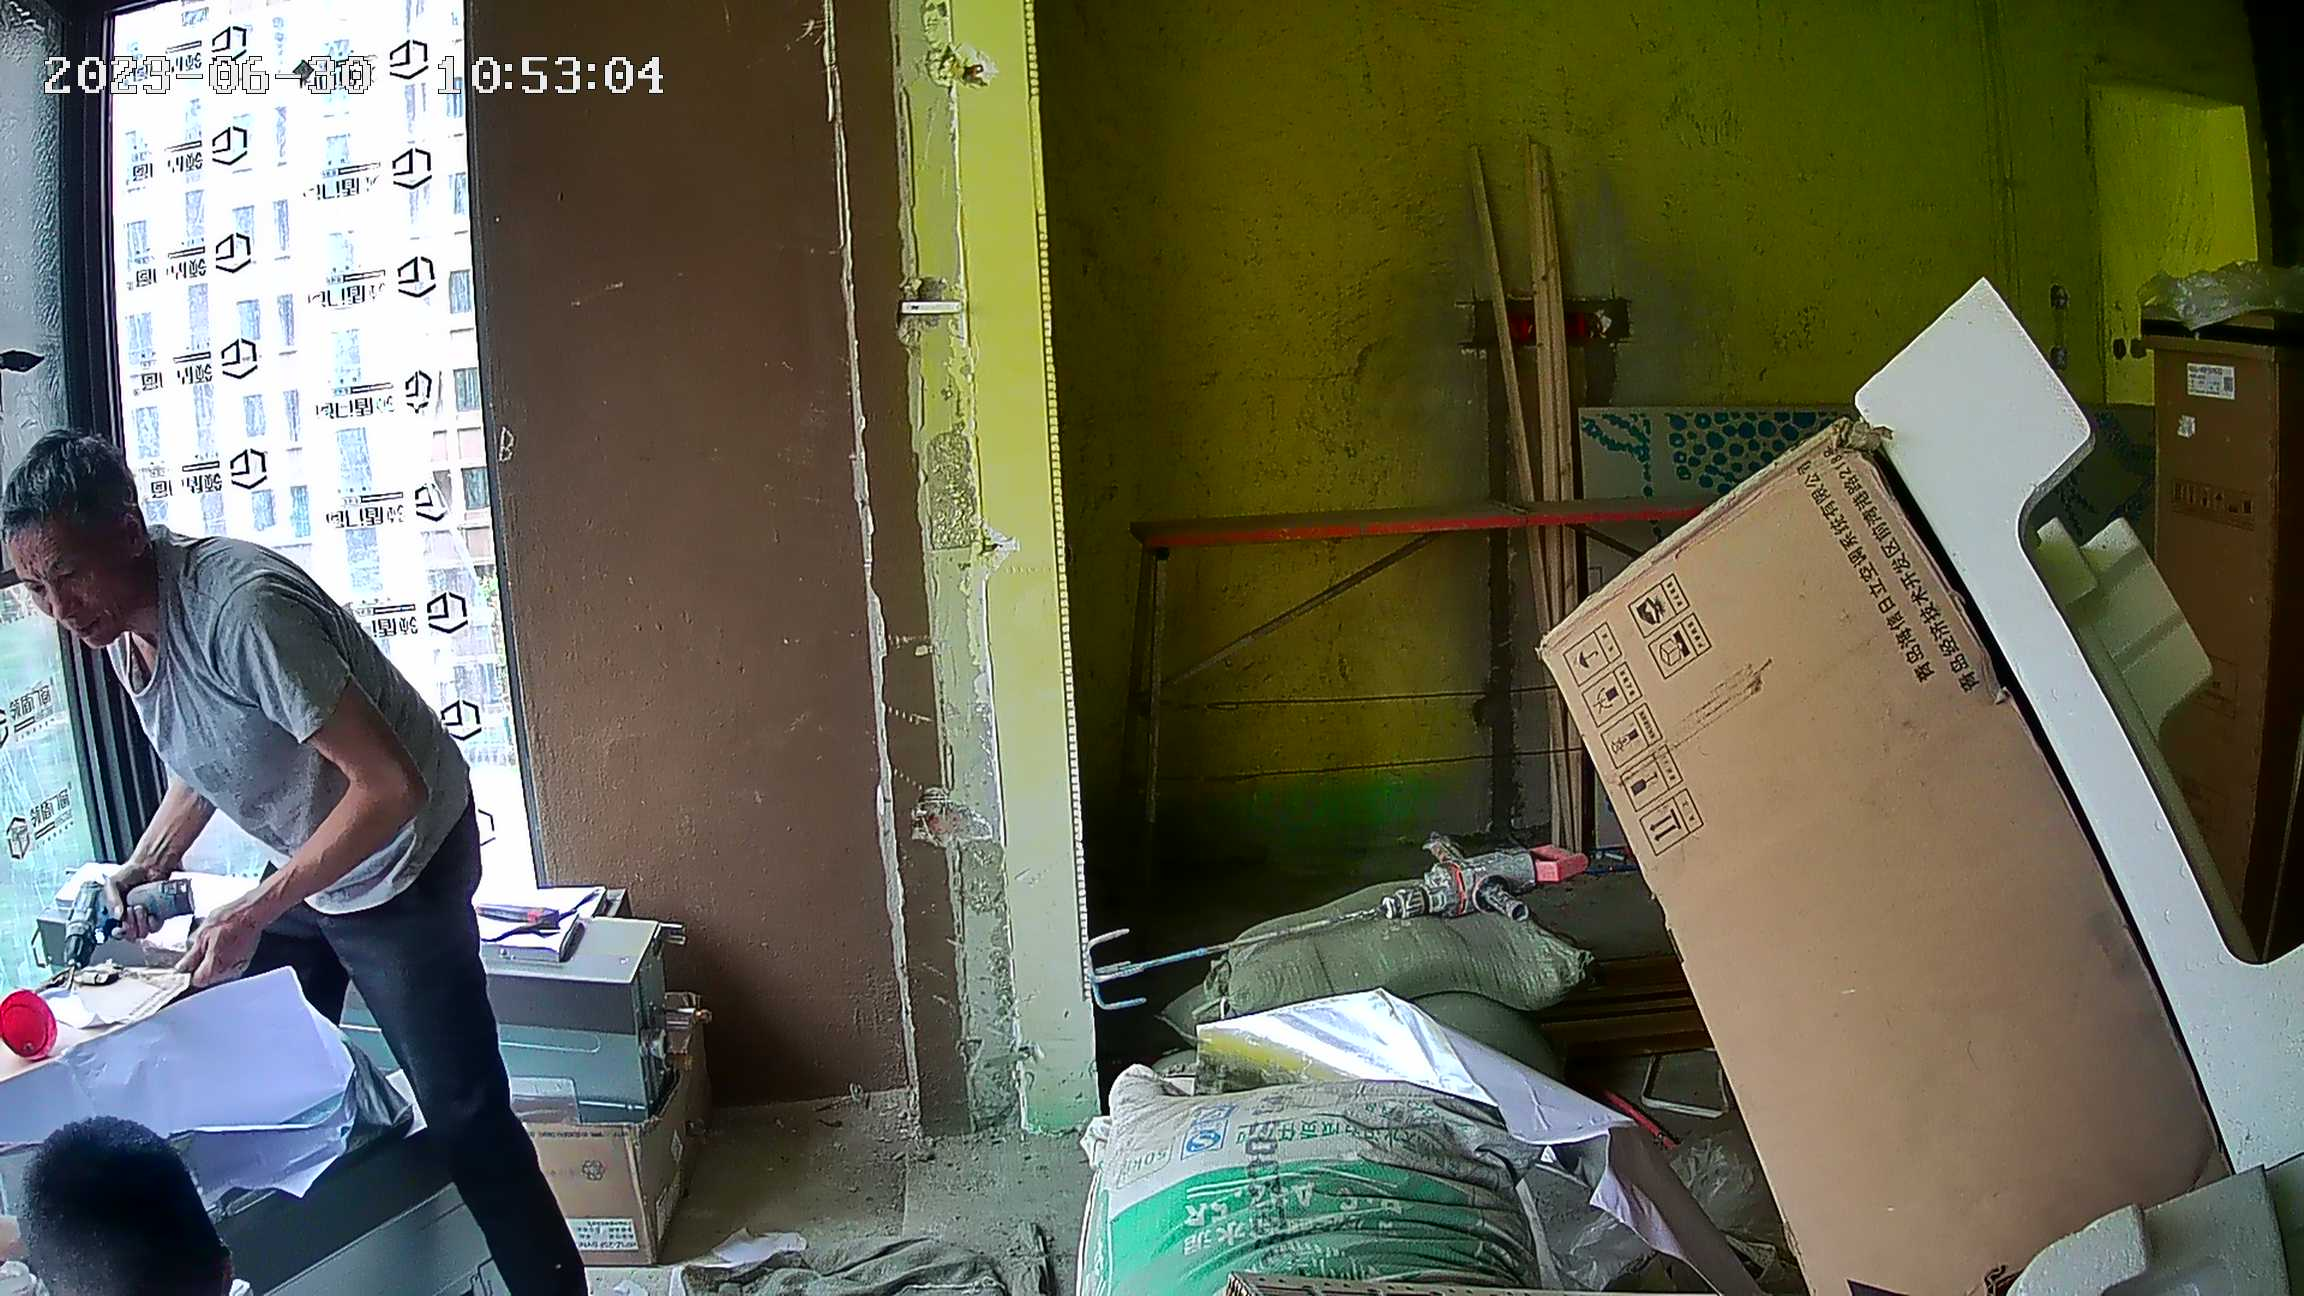people: (1, 425, 588, 1296)
window: (94, 20, 549, 881)
